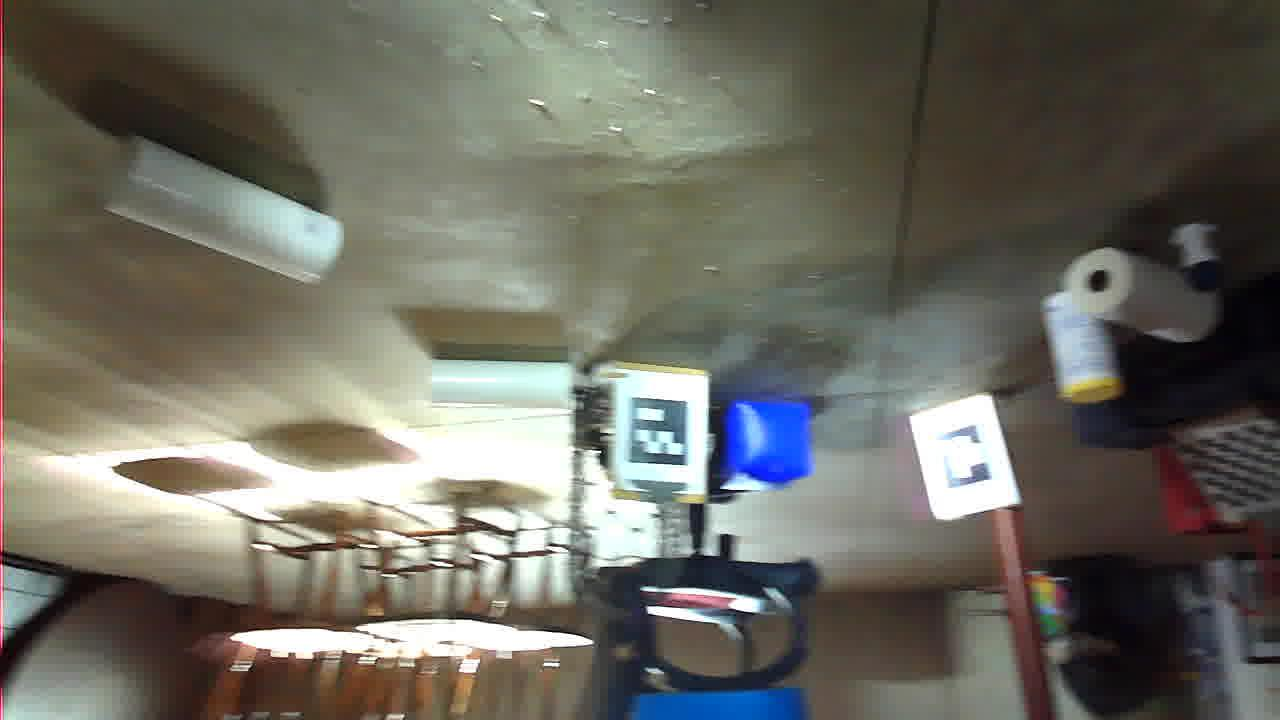coral: (938, 433, 1172, 586), (706, 312, 849, 359)
